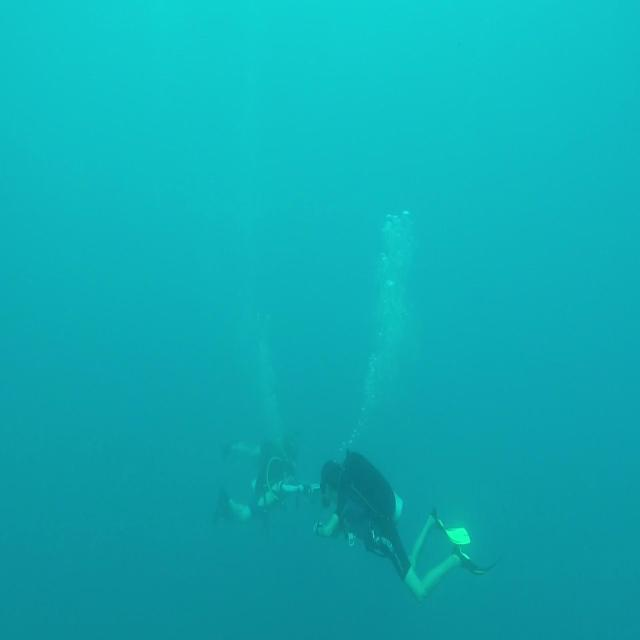human: (313, 448, 496, 601), (214, 432, 318, 528)
